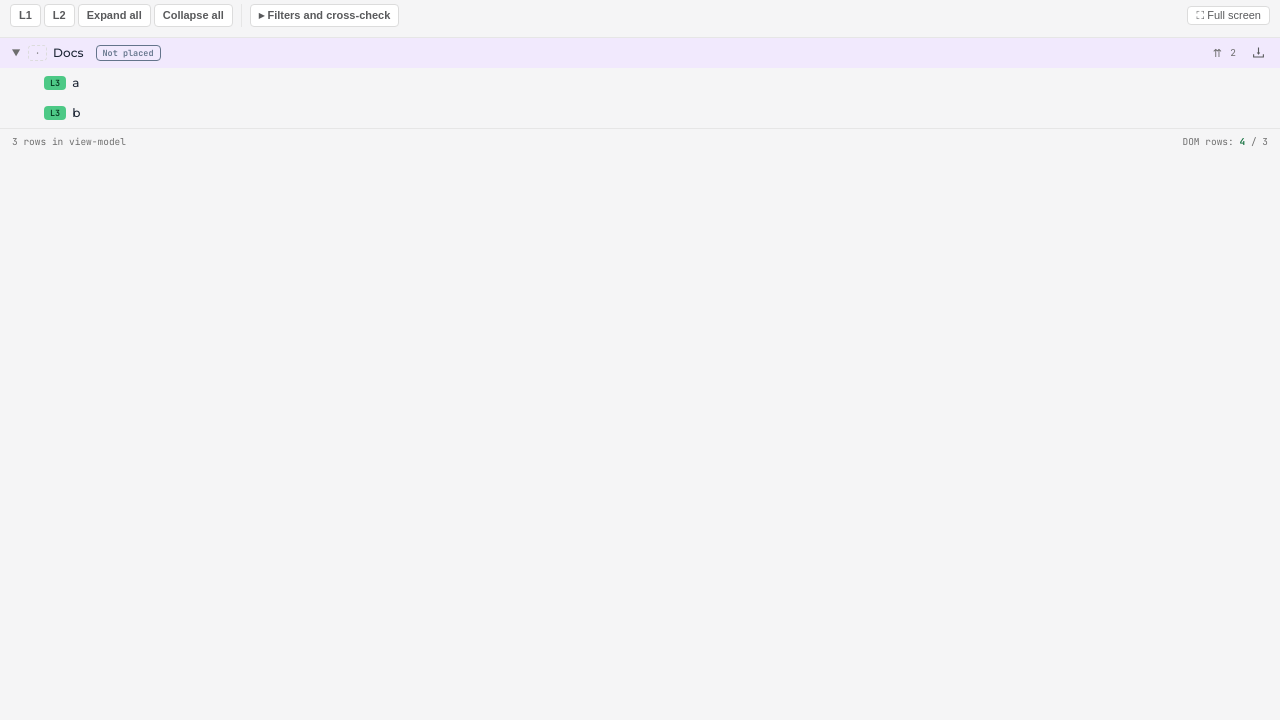
Test case: cross-check toggle › opens the full-screen view and closes it on Escape
Click the button "⛶ Full screen".
click(1229, 15)  # box 1187,6 -> 1270,25
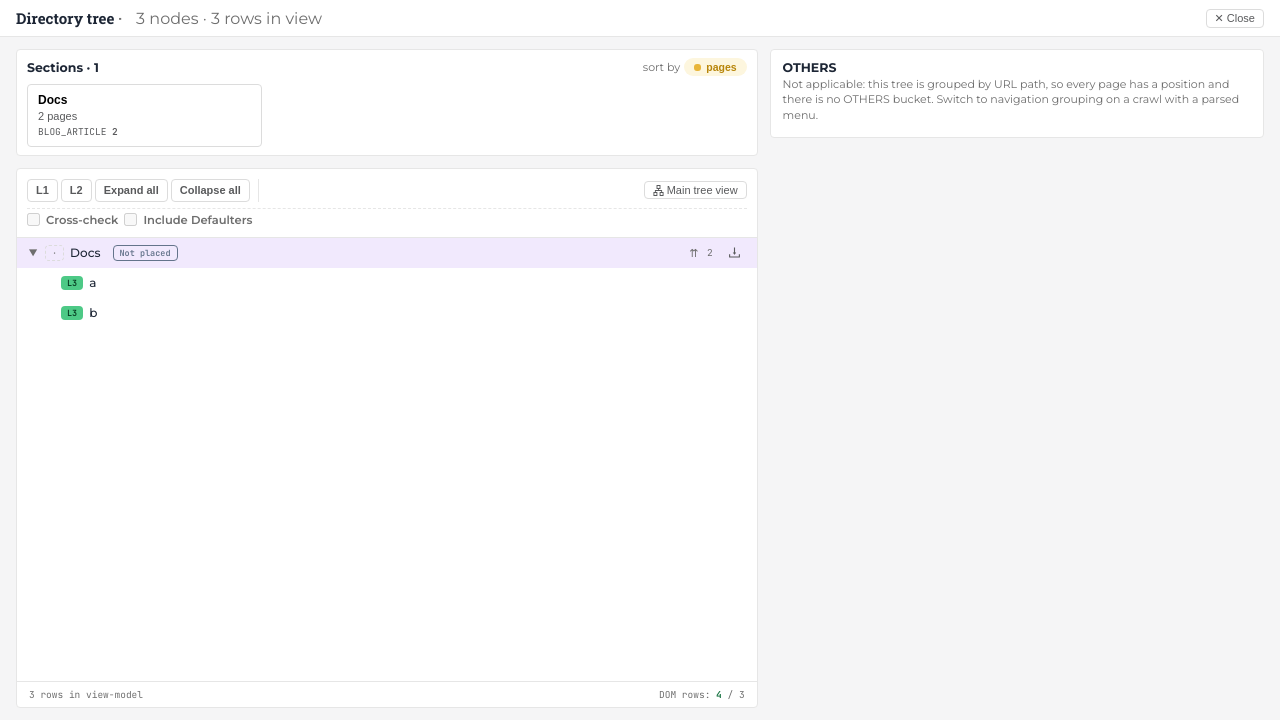
Now the dialog is shown
Press Escape
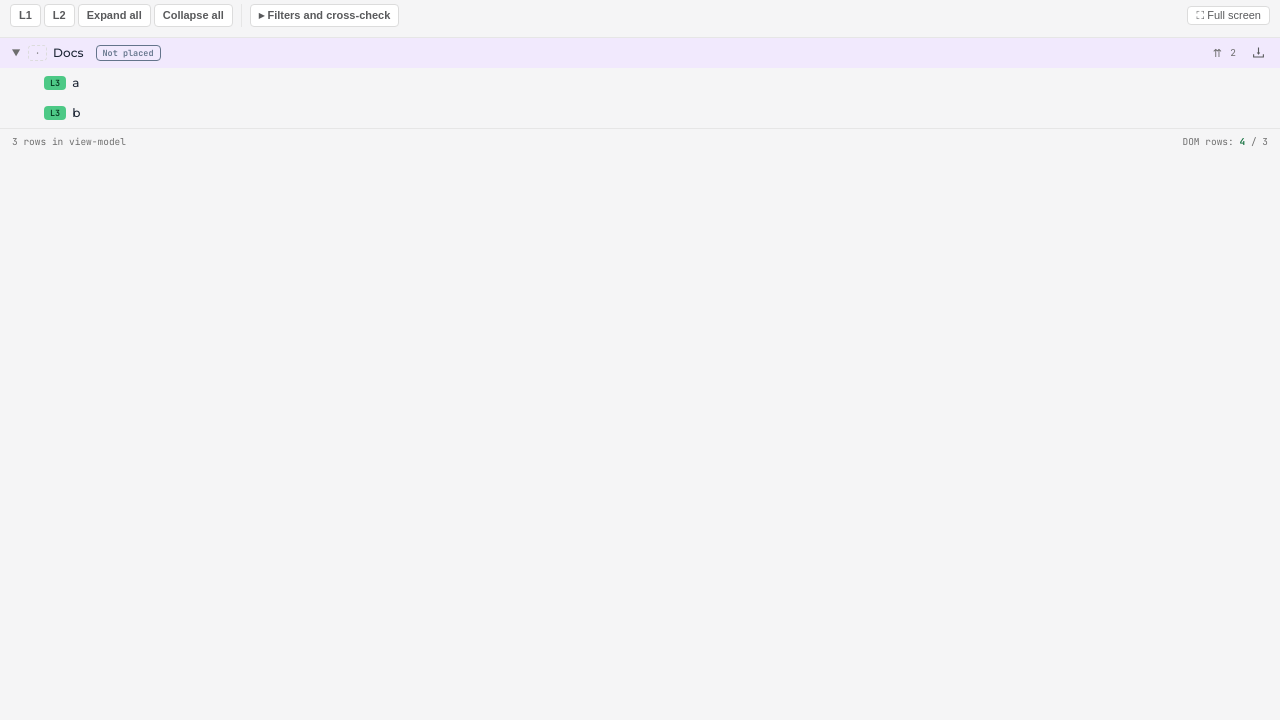
Now the dialog is gone
